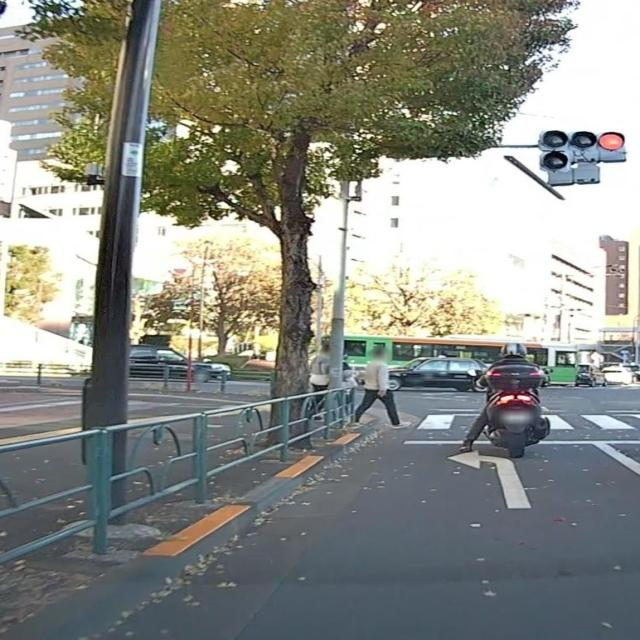maple: (14, 0, 580, 449)
